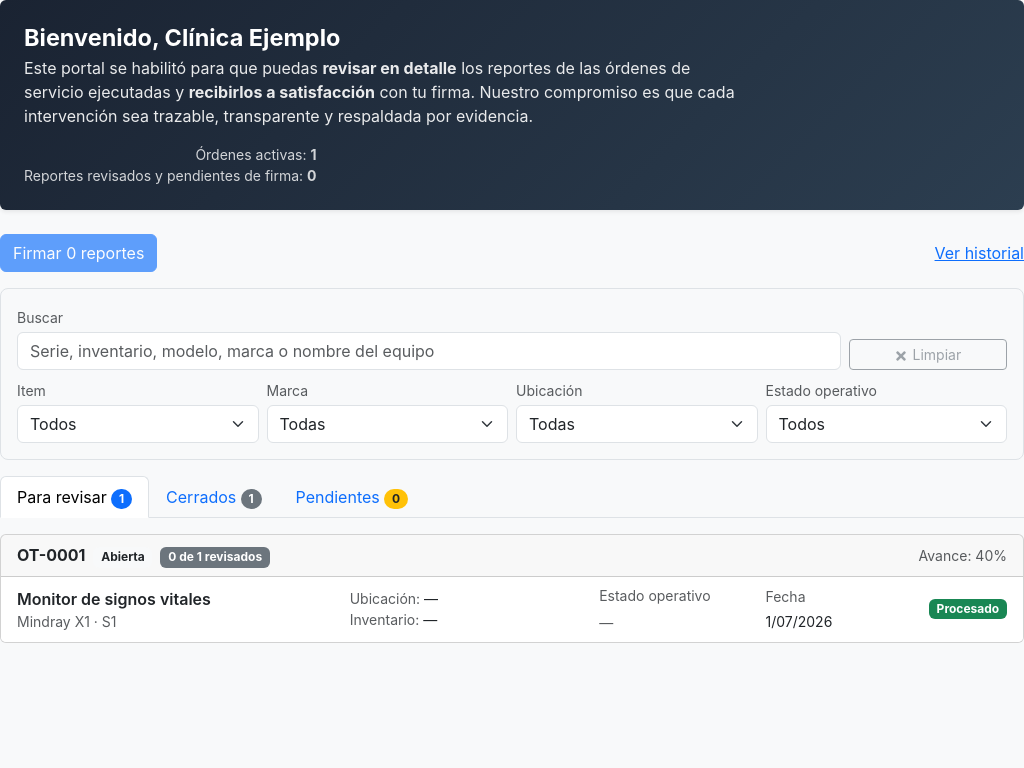
Test case: PortalHome › opens the ReportDetailModal on report row click (from Para revisar tab)
Click the button "Monitor de signos vitales": (114,599) x1=1 y1=576 x2=1023 y2=642
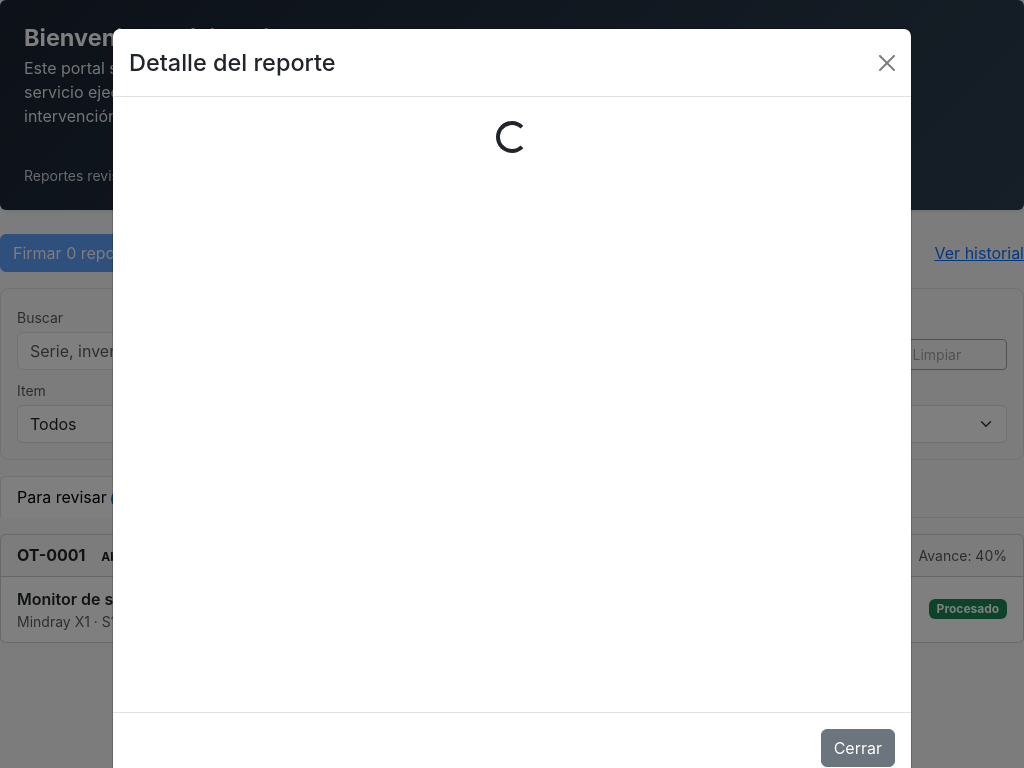
Expected: the element named "Cargando detalle" is shown, x1=496 y1=121 x2=528 y2=153
